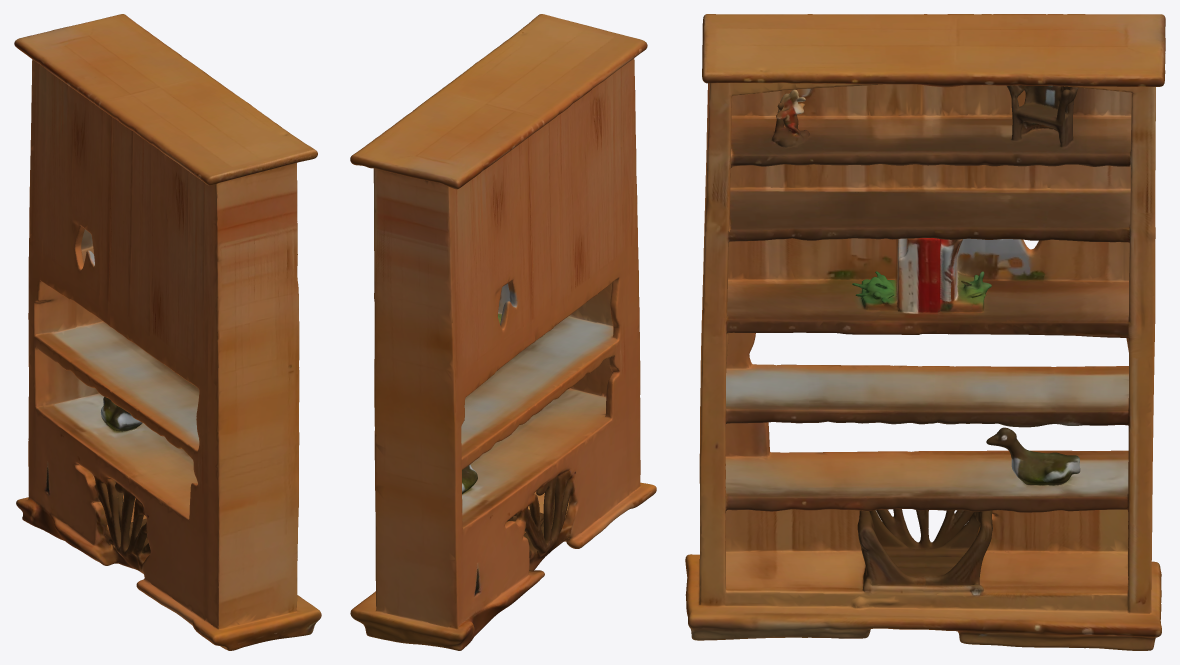
The model's file is c09-stylized.glb.
3 renders of one model, left to right at view 1: azimuth 30°, elevation 25°; view 2: azimuth 150°, elevation 25°; view 3: azimuth 270°, elevation 25°, orthographic. The views are drawn at different scales.
Parts seen in each view (by area): view 1: tripo_node_bb492de5-05b1-42fc-9a8a-60237a990f8a; view 2: tripo_node_bb492de5-05b1-42fc-9a8a-60237a990f8a; view 3: tripo_node_bb492de5-05b1-42fc-9a8a-60237a990f8a.
Boxes of the visible parts, x1=… form: tripo_node_bb492de5-05b1-42fc-9a8a-60237a990f8a: x1=14, y1=14, x2=321, y2=650; tripo_node_bb492de5-05b1-42fc-9a8a-60237a990f8a: x1=350, y1=14, x2=656, y2=650; tripo_node_bb492de5-05b1-42fc-9a8a-60237a990f8a: x1=685, y1=14, x2=1165, y2=650.
Bounding box in the file's own units: 0.2443 × 1 × 0.744.
1 material, 1 textured.
